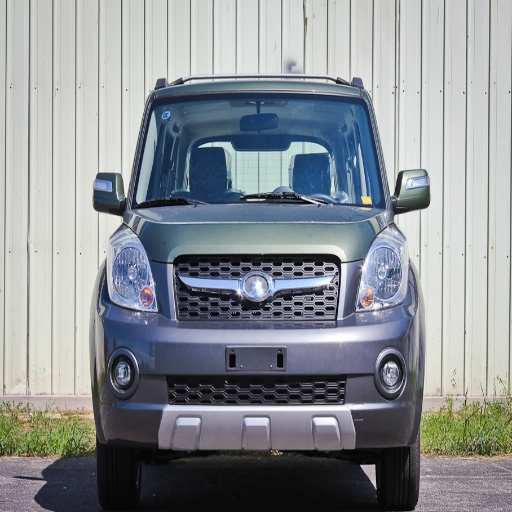front_bumper: (97, 260, 416, 460)
front_right_light: (104, 232, 160, 312)
hood: (129, 203, 384, 261)
left_mirror: (392, 170, 431, 213)
